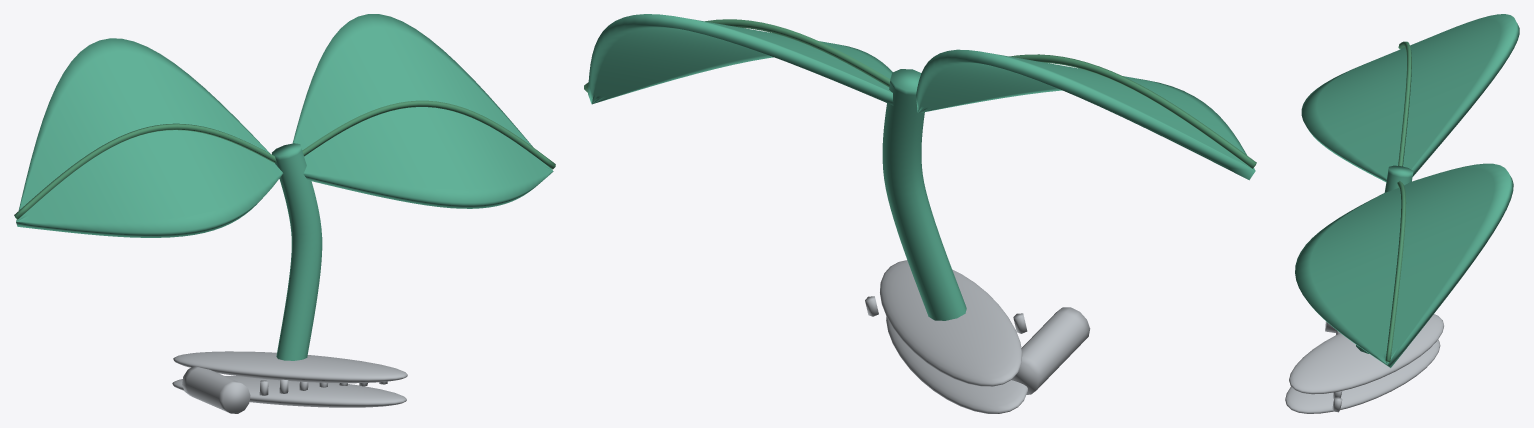
File: Feminine-space-buns--none-sprout.glb
3 views of the same model, side by side, from view 1: azimuth 30°, elevation 25°; view 2: azimuth 150°, elevation 25°; view 3: azimuth 270°, elevation 25° (orthographic). The views are drawn at different scales.
Visible parts, largest first — view 1: 226 extra / Accessory / mint226, 226 extra / Sprout / clip silver235, 226 extra / Sprout / leaf vein235; view 2: 226 extra / Accessory / mint226, 226 extra / Sprout / clip silver235, 226 extra / Sprout / leaf vein235; view 3: 226 extra / Accessory / mint226, 226 extra / Sprout / clip silver235, 226 extra / Sprout / leaf vein235.
Part boxes in pixels (bbox=[...]): 226 extra / Accessory / mint226: bbox=[16, 14, 553, 360]; 226 extra / Sprout / clip silver235: bbox=[172, 351, 407, 413]; 226 extra / Sprout / leaf vein235: bbox=[14, 100, 555, 219]; 226 extra / Accessory / mint226: bbox=[588, 14, 1255, 320]; 226 extra / Sprout / clip silver235: bbox=[865, 260, 1090, 413]; 226 extra / Sprout / leaf vein235: bbox=[584, 19, 1256, 168]; 226 extra / Accessory / mint226: bbox=[1295, 14, 1519, 367]; 226 extra / Sprout / clip silver235: bbox=[1285, 314, 1443, 413]; 226 extra / Sprout / leaf vein235: bbox=[1385, 41, 1411, 362].
Bounding box in the file's own units: 0.2692 × 0.1593 × 0.1084.
